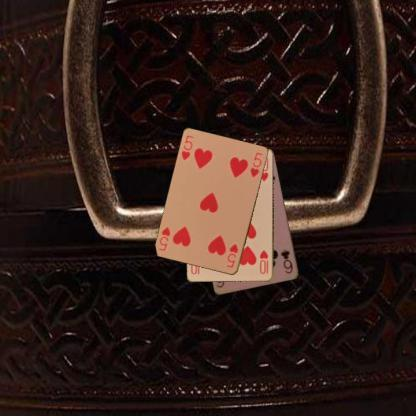10h: (257, 248, 270, 275)
5h: (178, 133, 194, 162), (224, 242, 240, 270)
6c: (278, 247, 295, 275)
